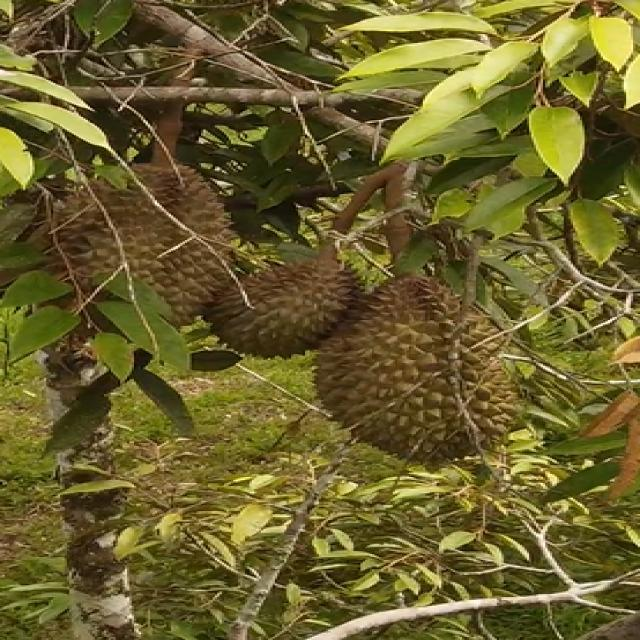mature: (51, 165, 236, 359), (45, 319, 94, 387)
